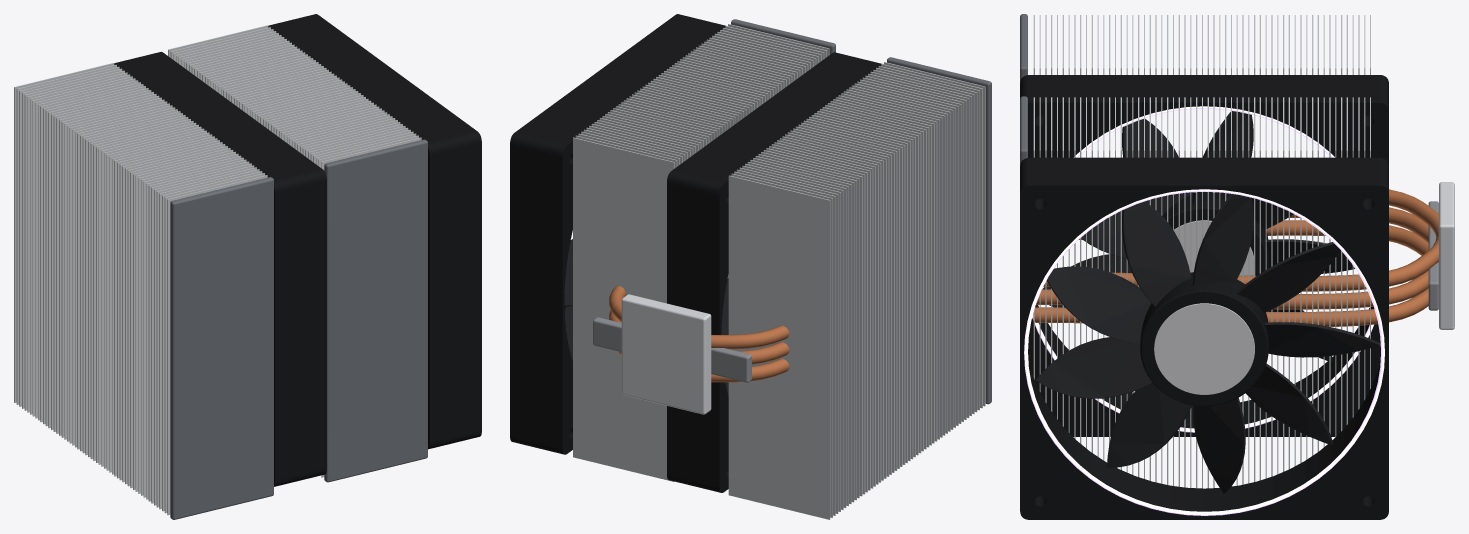
File: 3bfcf7c5-ae6c-4c84-a94a-57227fd7c7cc.glb
The picture shows the model from 3 angles, left to right: view 1: azimuth 30°, elevation 25°; view 2: azimuth 150°, elevation 25°; view 3: azimuth 270°, elevation 25°; orthographic projection. The views are drawn at different scales.
Visible parts, largest first — view 1: Cooler_FinStack_01, Cooler_TopCover_01, Cooler_TopCover_02, Cooler_Fan_01_Frame, Cooler_Fan_02_Frame, Cooler_FinStack_02; view 2: Cooler_FinStack_01, Cooler_FinStack_02, Cooler_Fan_01_Frame, Cooler_Fan_02_Frame, Cooler_Base, Cooler_TopCover_01, Cooler_Base_Clamp, Cooler_Heatpipe_03, Cooler_Fan_01_Blades, Cooler_TopCover_02, Cooler_Heatpipe_01, Cooler_Heatpipe_02; view 3: Cooler_Fan_01_Frame, Cooler_Fan_01_Blades, Cooler_Fan_02_Frame, Cooler_FinStack_02, Cooler_Fan_02_Blades, Cooler_Fan_01_Label, Cooler_FinStack_01, Cooler_Fan_01_Hub, Cooler_Fan_01_RGBRing, Cooler_Heatpipe_01, Cooler_Heatpipe_02, Cooler_Heatpipe_03 (+7 smaller).
Boxes of the visible parts, bbox=[...] form: Cooler_FinStack_01: bbox=[14, 63, 267, 515]; Cooler_TopCover_01: bbox=[170, 177, 273, 519]; Cooler_TopCover_02: bbox=[324, 139, 427, 482]; Cooler_Fan_01_Frame: bbox=[268, 14, 481, 449]; Cooler_Fan_02_Frame: bbox=[114, 51, 326, 486]; Cooler_FinStack_02: bbox=[168, 25, 421, 477]; Cooler_FinStack_01: bbox=[728, 62, 985, 519]; Cooler_FinStack_02: bbox=[573, 24, 829, 481]; Cooler_Fan_01_Frame: bbox=[510, 14, 725, 454]; Cooler_Fan_02_Frame: bbox=[667, 52, 883, 492]; Cooler_Base: bbox=[621, 294, 711, 414]; Cooler_TopCover_01: bbox=[887, 57, 991, 404]; Cooler_Base_Clamp: bbox=[593, 317, 751, 382]; Cooler_Heatpipe_03: bbox=[609, 286, 789, 349]; Cooler_Fan_01_Blades: bbox=[564, 239, 572, 360]; Cooler_TopCover_02: bbox=[731, 19, 835, 54]; Cooler_Heatpipe_01: bbox=[617, 351, 789, 382]; Cooler_Heatpipe_02: bbox=[609, 310, 789, 364]; Cooler_Fan_01_Frame: bbox=[1020, 157, 1388, 519]; Cooler_Fan_01_Blades: bbox=[1035, 194, 1380, 493]; Cooler_Fan_02_Frame: bbox=[1020, 75, 1388, 436]; Cooler_FinStack_02: bbox=[1033, 97, 1370, 488]; Cooler_Fan_02_Blades: bbox=[1043, 111, 1354, 362]; Cooler_Fan_01_Label: bbox=[1154, 303, 1254, 394]; Cooler_FinStack_01: bbox=[1033, 15, 1370, 74]; Cooler_Fan_01_Hub: bbox=[1140, 272, 1268, 406]; Cooler_Fan_01_RGBRing: bbox=[1024, 189, 1384, 515]; Cooler_Heatpipe_01: bbox=[1033, 220, 1428, 326]; Cooler_Heatpipe_02: bbox=[1036, 207, 1428, 309]; Cooler_Heatpipe_03: bbox=[1043, 189, 1438, 291].
Size of the model in its own units: 0.1485 by 0.146 by 0.165.
